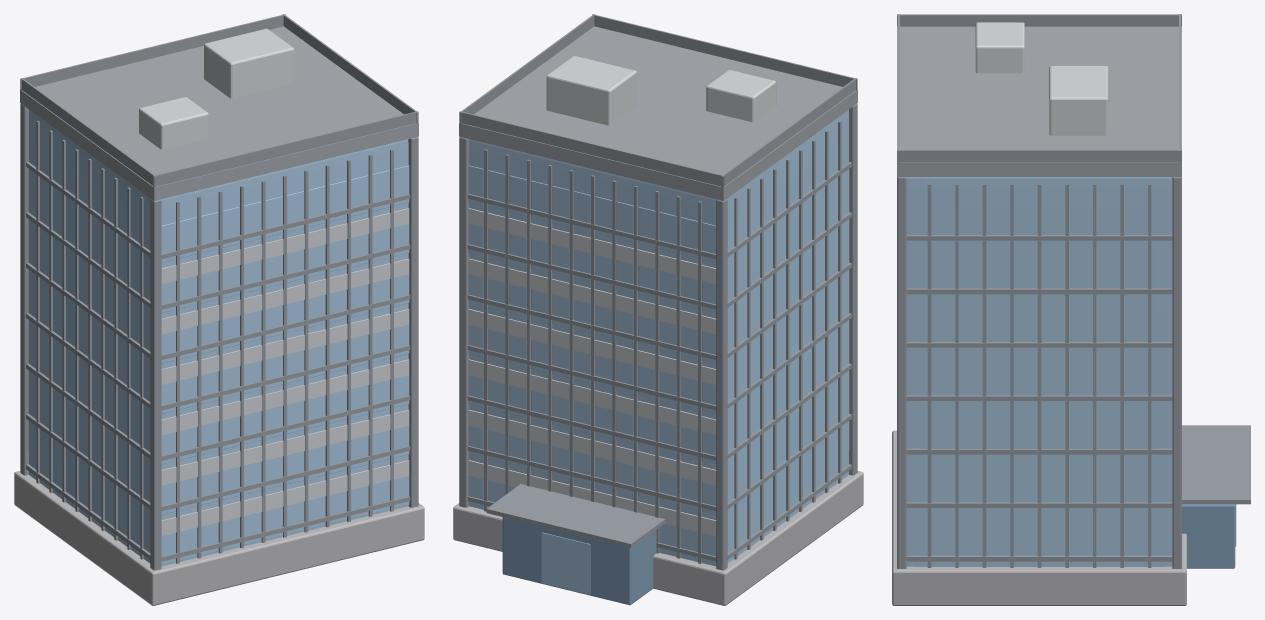
The model's file is office_a.glb.
3 renders of one model, left to right at view 1: azimuth 30°, elevation 25°; view 2: azimuth 150°, elevation 25°; view 3: azimuth 270°, elevation 25°, orthographic. The views are drawn at different scales.
Visible parts, largest first — view 1: BodyA, RoofA, BaseA, MechA1, Corner_A_-8.0_-7.0, Corner_A_8.0_-7.0, SpanB_A_1, SpanB_A_6, SpanB_A_2, SpanB_A_3, SpanB_A_4, SpanB_A_5 (+43 smaller); view 2: BodyA, RoofA, BaseA, LobbyA, CanopyA, MechA1, Corner_A_-8.0_7.0, Corner_A_8.0_7.0, SpanF_A_6, SpanF_A_2, SpanF_A_3, SpanF_A_4 (+46 smaller); view 3: BodyA, RoofA, BaseA, CanopyA, MechA1, Corner_A_8.0_7.0, Corner_A_8.0_-7.0, RailA_L, RailA_R, LobbyA, MechA2, Slab_A_5 (+15 smaller).
Boxes of the visible parts, box(x1,y1,x2,y2) form: BodyA: box(28, 110, 408, 566); RoofA: box(20, 26, 418, 200); BaseA: box(14, 471, 424, 605); MechA1: box(204, 28, 294, 98); Corner_A_-8.0_-7.0: box(150, 198, 161, 570); Corner_A_8.0_-7.0: box(408, 137, 418, 507); SpanB_A_1: box(161, 460, 409, 535); SpanB_A_6: box(161, 208, 409, 283); SpanB_A_2: box(161, 410, 409, 485); SpanB_A_3: box(161, 359, 409, 435); SpanB_A_4: box(161, 309, 409, 384); SpanB_A_5: box(161, 258, 409, 334); BodyA: box(469, 110, 849, 566); RoofA: box(459, 26, 857, 200); BaseA: box(453, 471, 863, 605); LobbyA: box(502, 517, 656, 605); CanopyA: box(486, 484, 665, 548); MechA1: box(546, 56, 636, 125); Corner_A_-8.0_7.0: box(716, 198, 727, 570); Corner_A_8.0_7.0: box(459, 137, 469, 507); SpanF_A_6: box(468, 208, 716, 283); SpanF_A_2: box(468, 410, 716, 485); SpanF_A_3: box(468, 359, 716, 435); SpanF_A_4: box(468, 309, 716, 384); BodyA: box(906, 177, 1172, 566); RoofA: box(897, 26, 1181, 176); BaseA: box(892, 430, 1186, 605); CanopyA: box(1182, 425, 1250, 504); MechA1: box(1049, 65, 1108, 135); Corner_A_8.0_7.0: box(1172, 177, 1181, 568); Corner_A_8.0_-7.0: box(897, 177, 906, 568); RailA_L: box(897, 150, 1181, 162); RailA_R: box(897, 14, 1181, 26); LobbyA: box(1182, 504, 1235, 568); MechA2: box(975, 22, 1024, 73); Slab_A_5: box(906, 288, 1172, 294).
Bounding box in the file's own units: 17 × 26.9 × 18.25.
